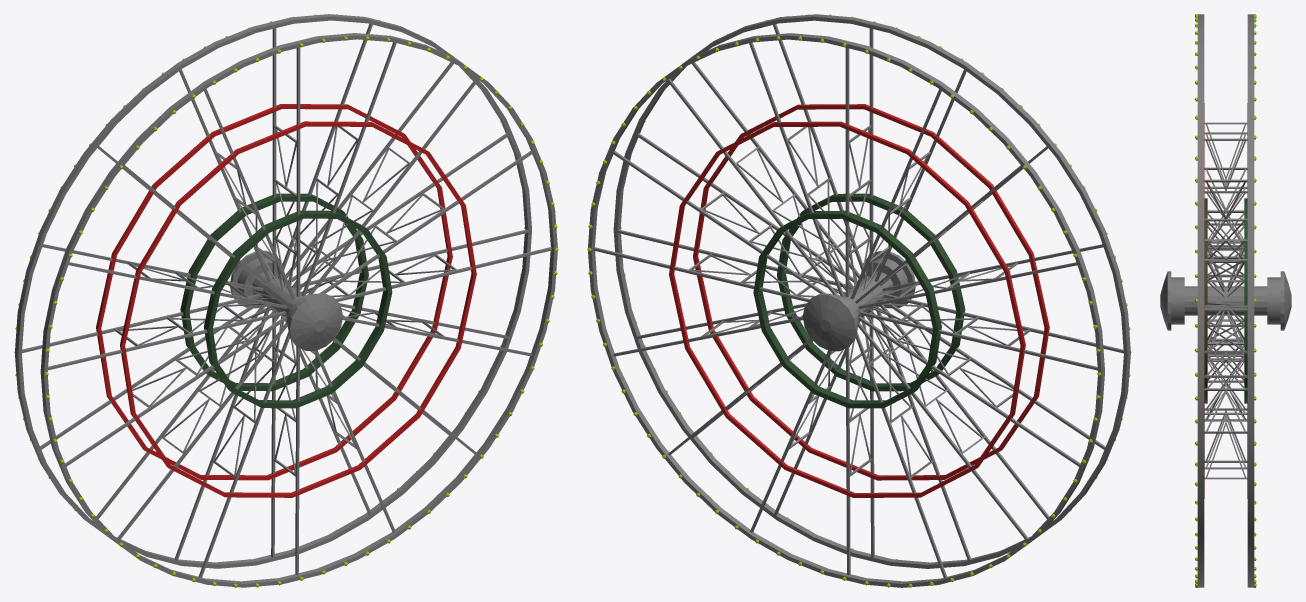
File: SM_wheel_ferriswheel.fbx
The picture shows the model from 3 angles, left to right: view 1: azimuth 30°, elevation 25°; view 2: azimuth 150°, elevation 25°; view 3: azimuth 270°, elevation 25°; orthographic projection. The views are drawn at different scales.
Parts seen in each view (by area): view 1: Cylinder006; view 2: Cylinder006; view 3: Cylinder006.
Part boxes in pixels (box(x1,y1,x2,y2)): Cylinder006: box(14, 14, 558, 587); Cylinder006: box(587, 14, 1131, 587); Cylinder006: box(1160, 14, 1291, 587).
Bounding box in the file's own units: 1013 × 1012 × 231.
